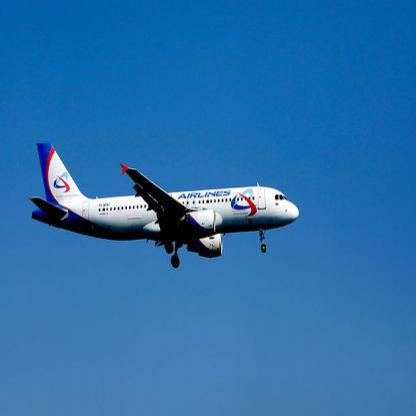CIV_Plane: (22, 136, 302, 270)
